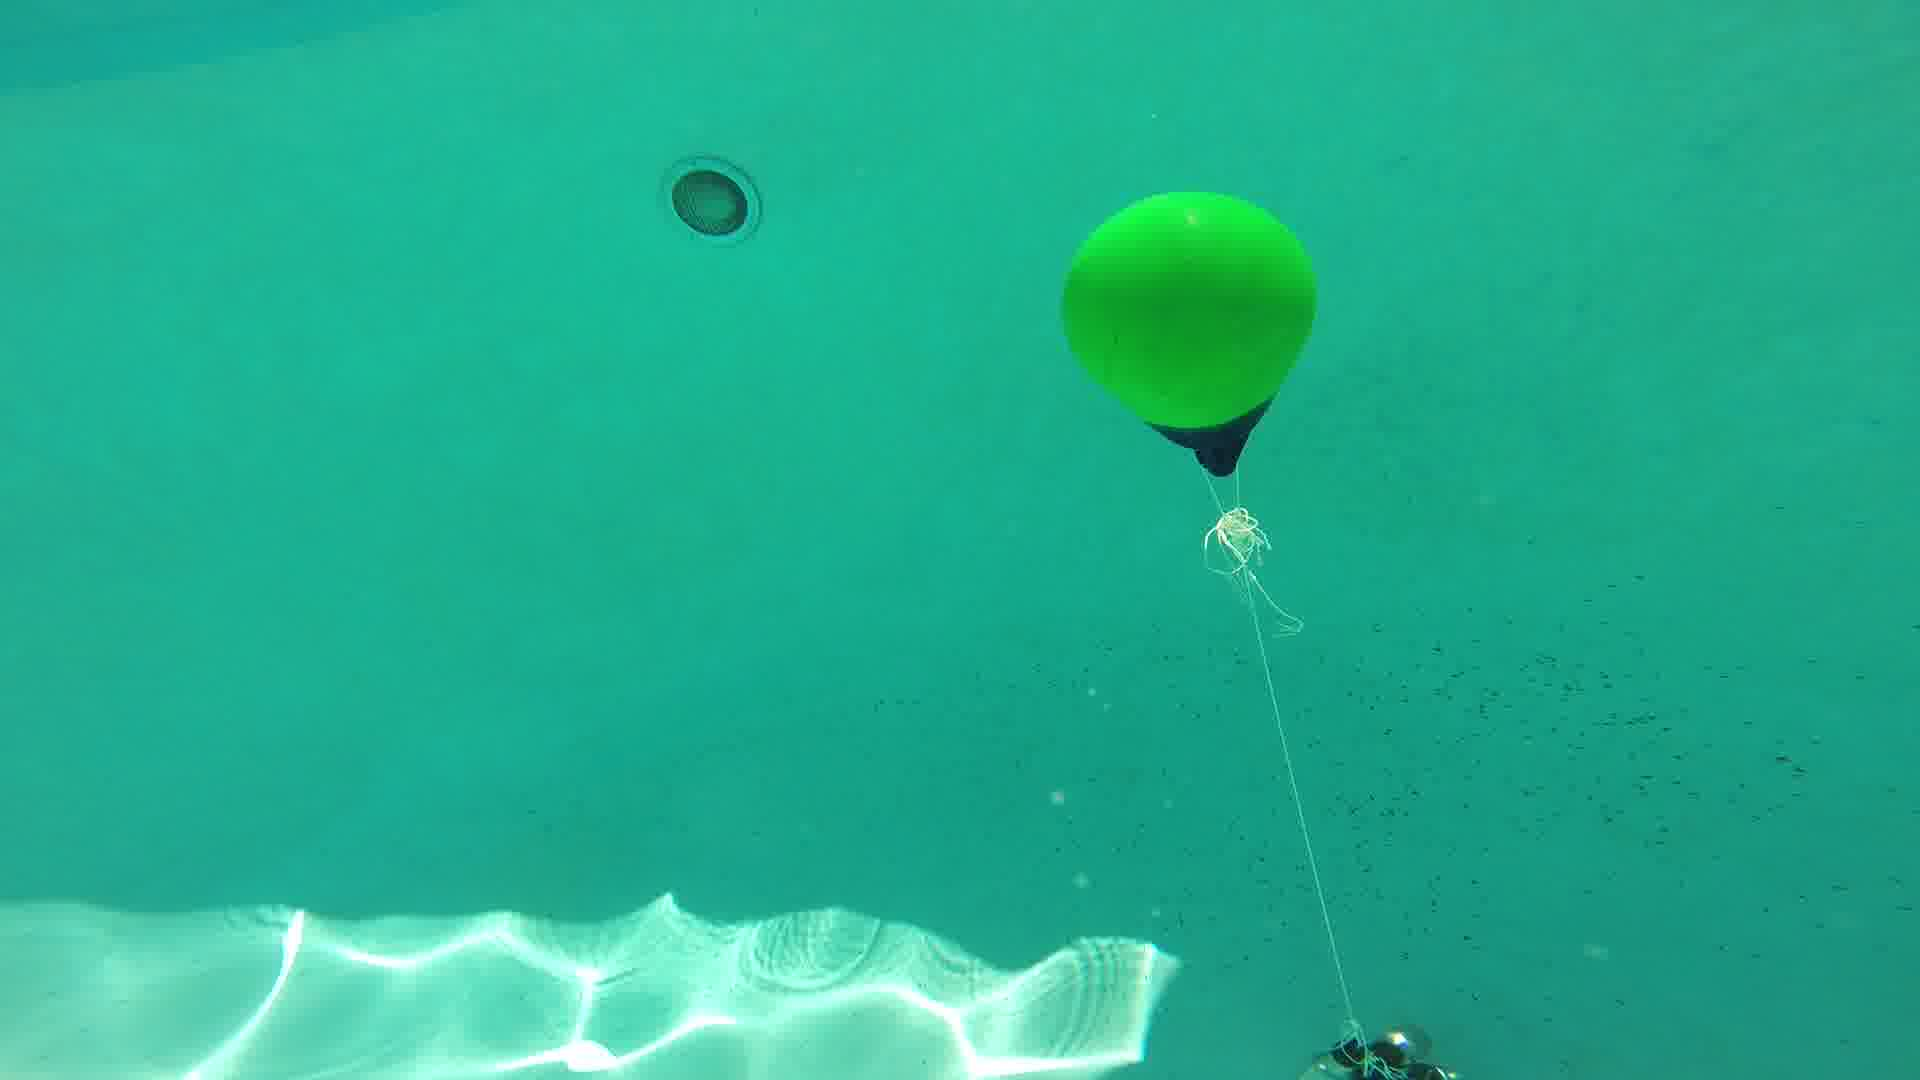yellow_buoy: (1062, 187, 1317, 477)
